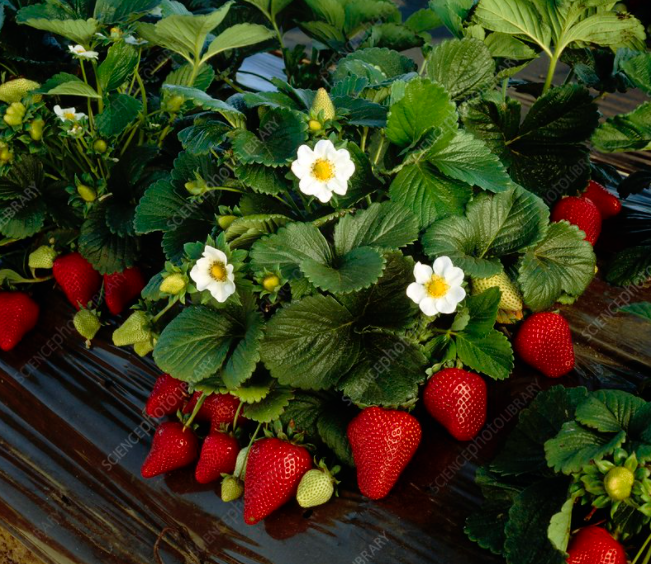ripe: (346, 403, 422, 499), (241, 436, 307, 526), (425, 365, 492, 441), (515, 310, 578, 375), (138, 418, 194, 478), (555, 192, 602, 252), (53, 249, 97, 312), (559, 525, 628, 562), (193, 381, 241, 434), (142, 366, 190, 418), (193, 437, 239, 484), (570, 179, 621, 218), (9, 286, 35, 353), (103, 265, 139, 310)
unripe: (470, 262, 523, 316), (295, 464, 333, 508), (111, 308, 152, 345), (604, 459, 634, 502), (73, 308, 101, 339), (27, 245, 58, 270), (219, 472, 240, 503)
